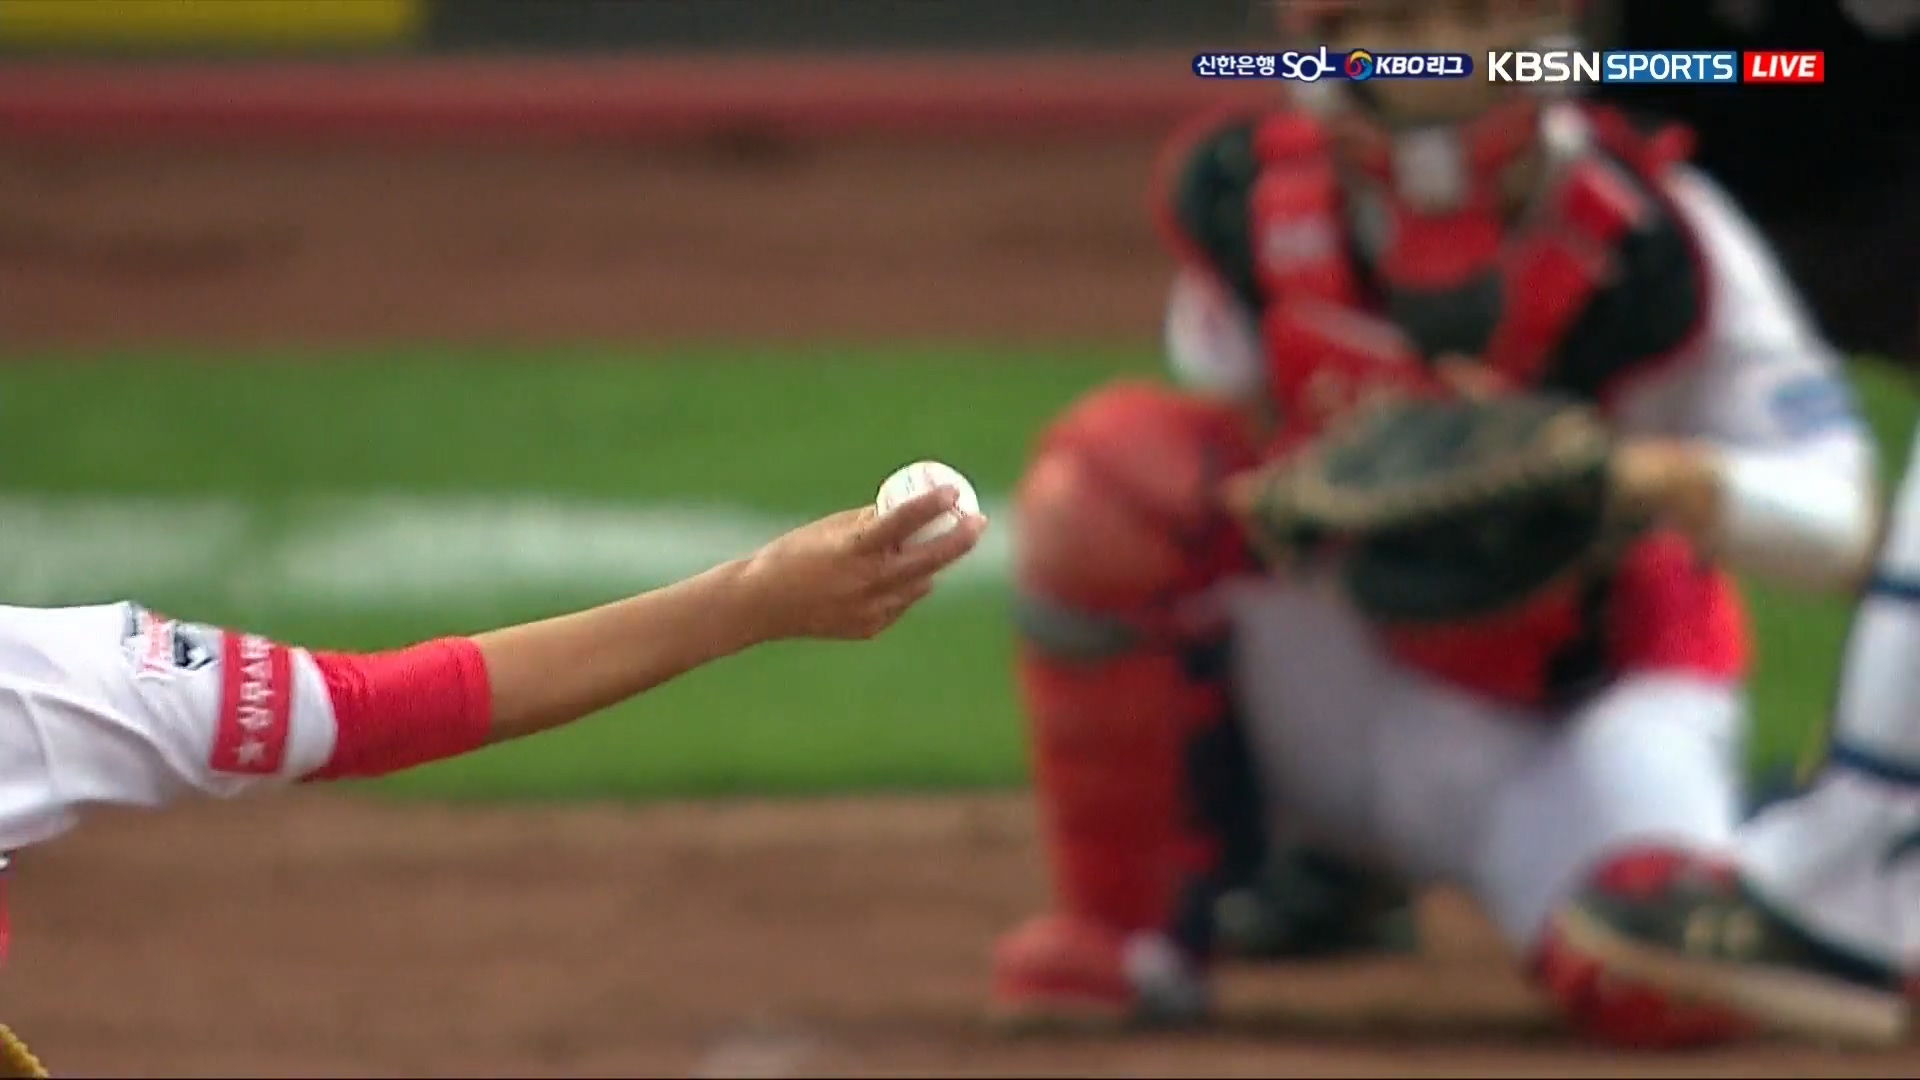zoomin_hand: (336, 450, 996, 789)
